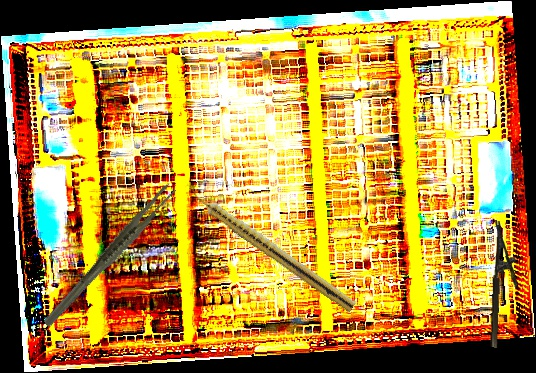Handpiece: (185, 184, 359, 313)
Needle Holder: (488, 220, 522, 349)
Tissue Forceps: (21, 181, 197, 329)
